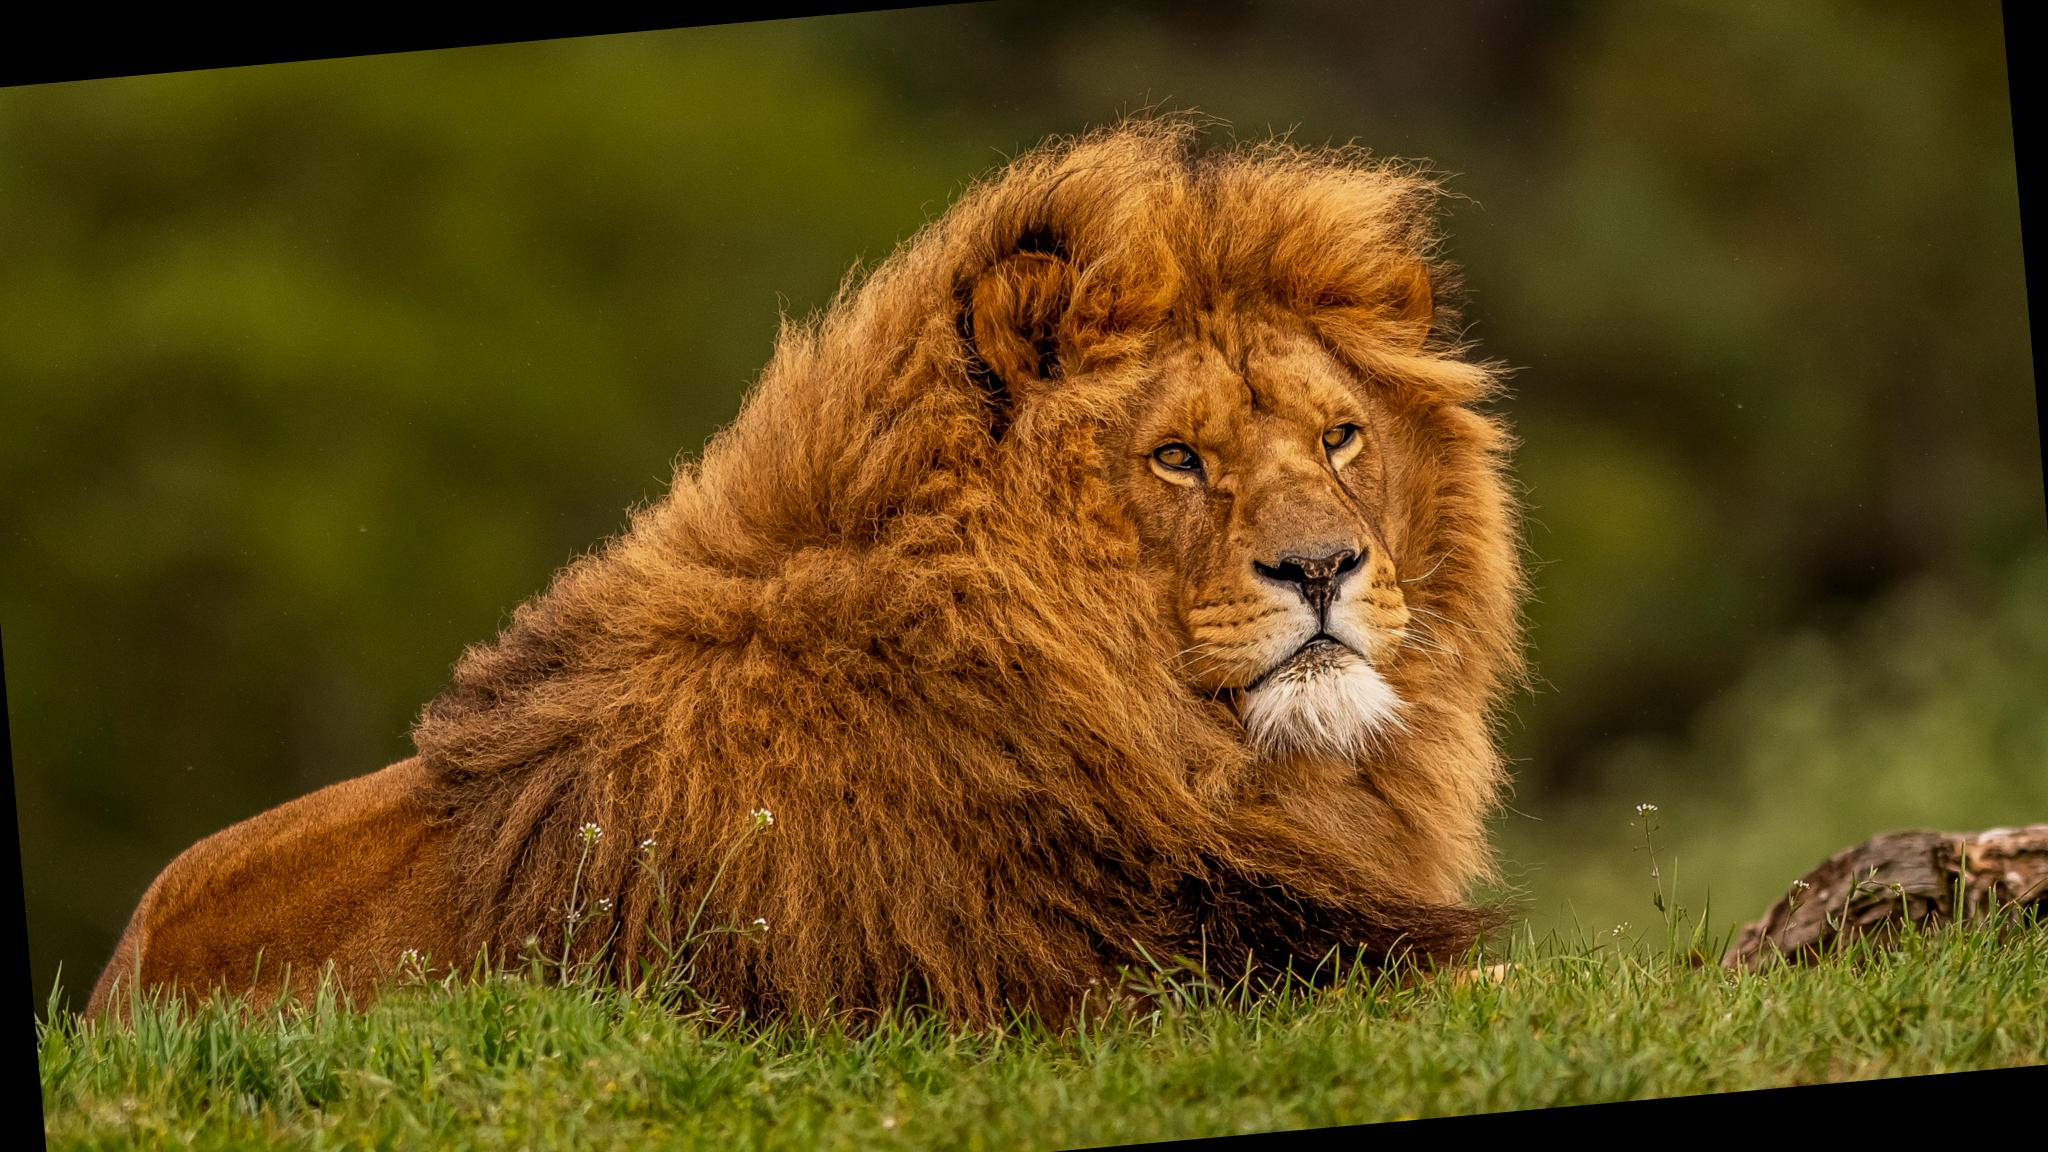lions: (0, 0, 2040, 1152)
